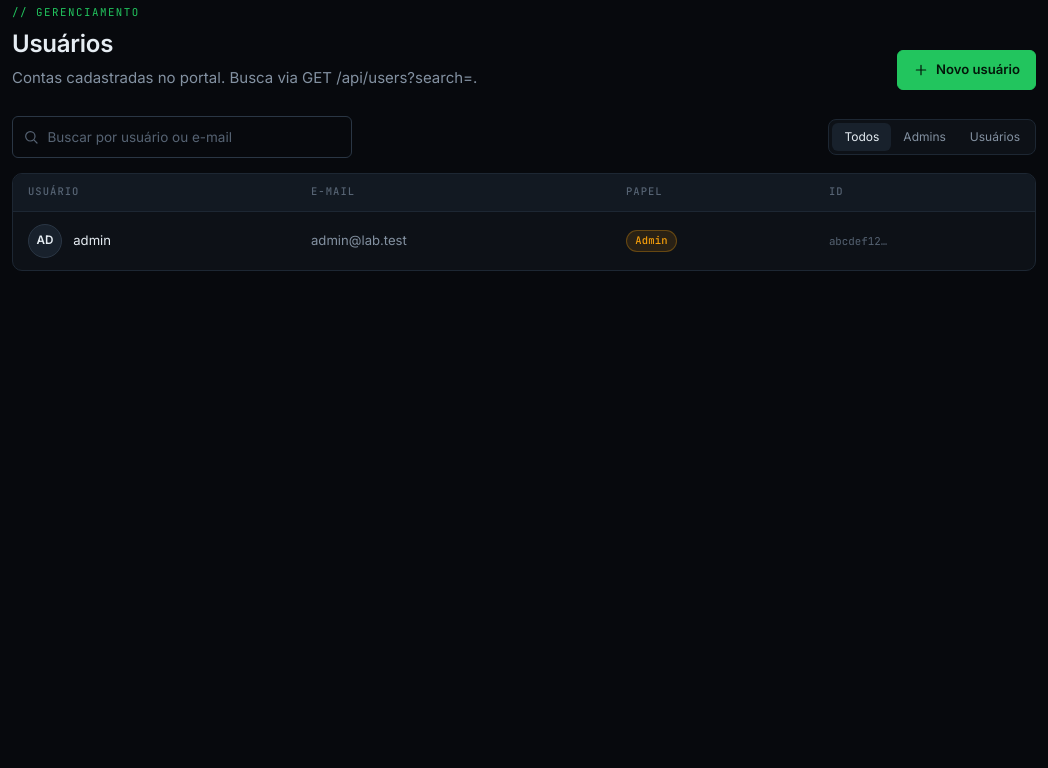
Test case: Users › mostra a mensagem da API quando o cadastro é recusado
Expected: the text "admin" is shown, [73,231,111,250]
Click the button "Novo usuário" at (966, 70), box [897,50,1036,90]
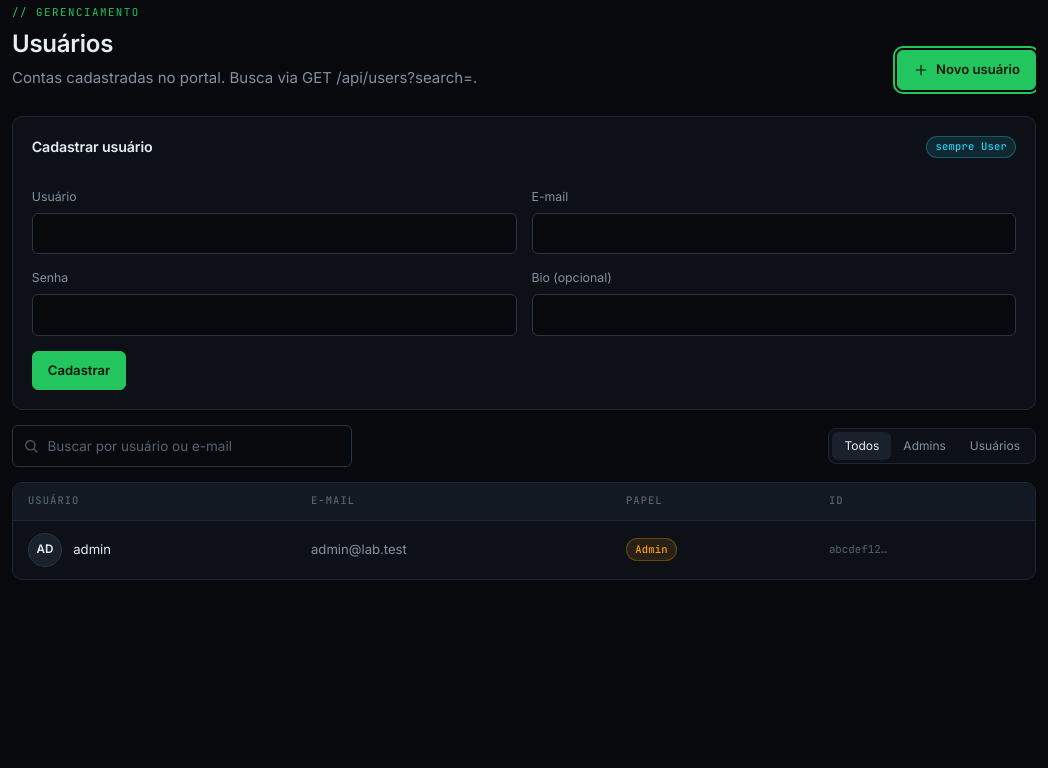
Type "novo" into the field labelled "Usuário" at (274, 234), box [32,213,517,254]
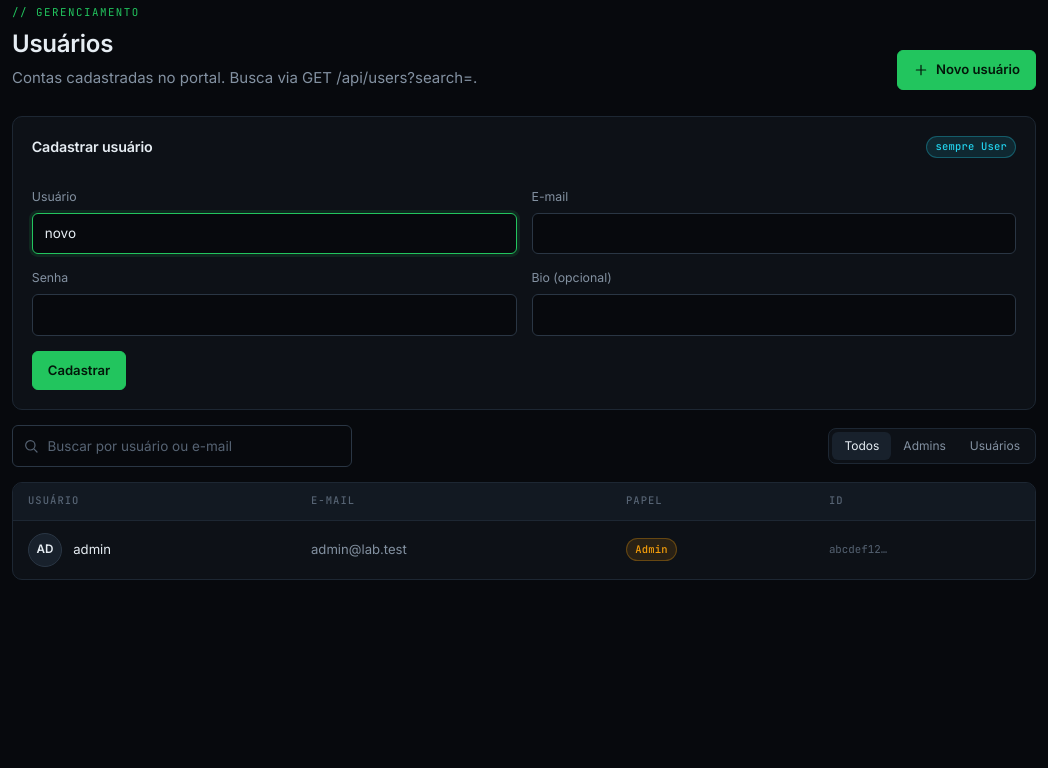
Type "novo@lab.test" into the field labelled "E-mail" at (774, 234), box [532,213,1016,254]
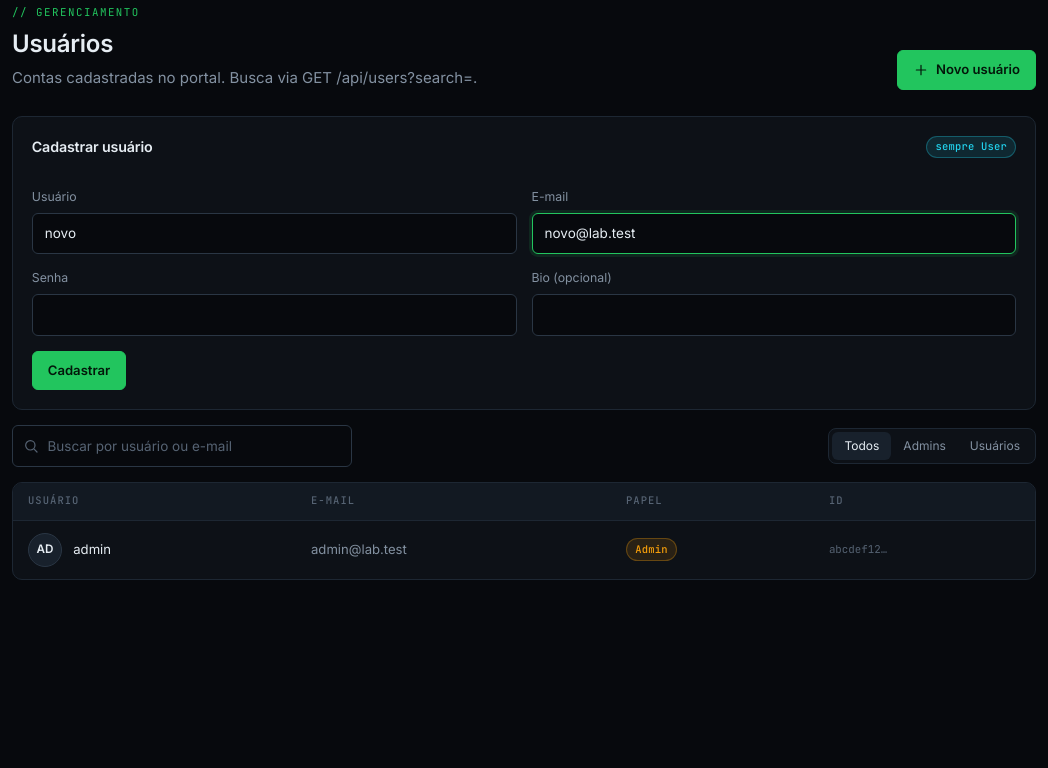
Type "CyberProtech@2026" into the password field labelled "Senha" at (274, 315), box [32,294,517,336]
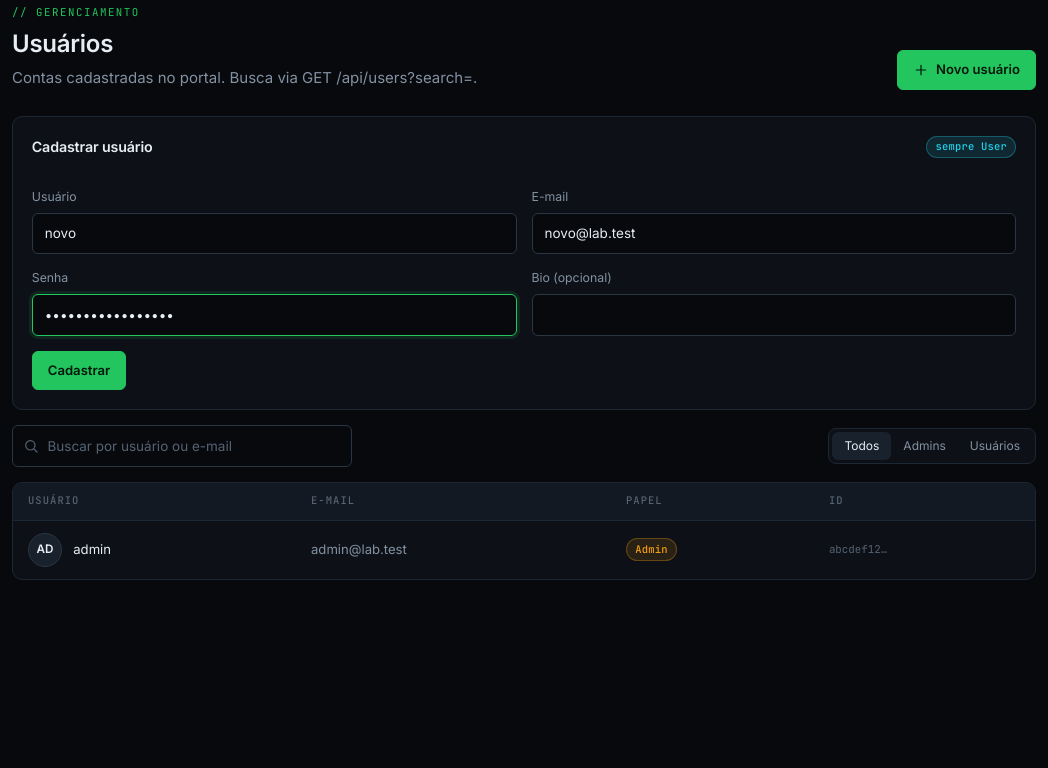
Click the button "Cadastrar" at (79, 370), box [32,351,126,390]
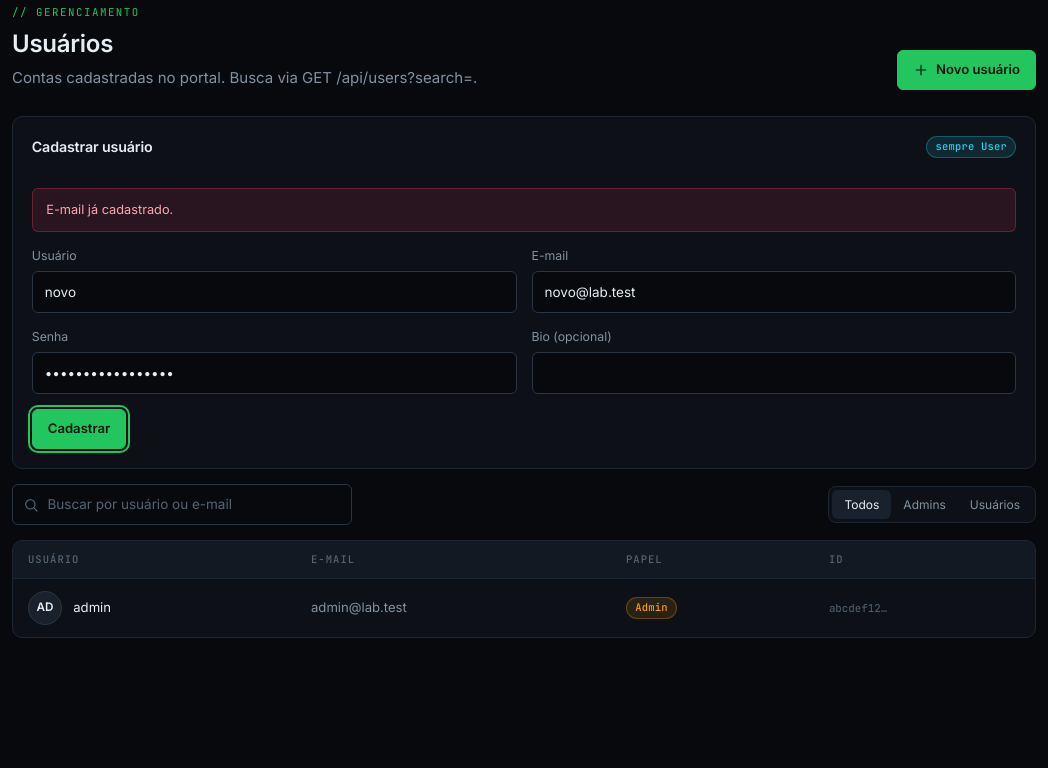
Now the text "E-mail já cadastrado." is shown, box [32,188,1016,232]
